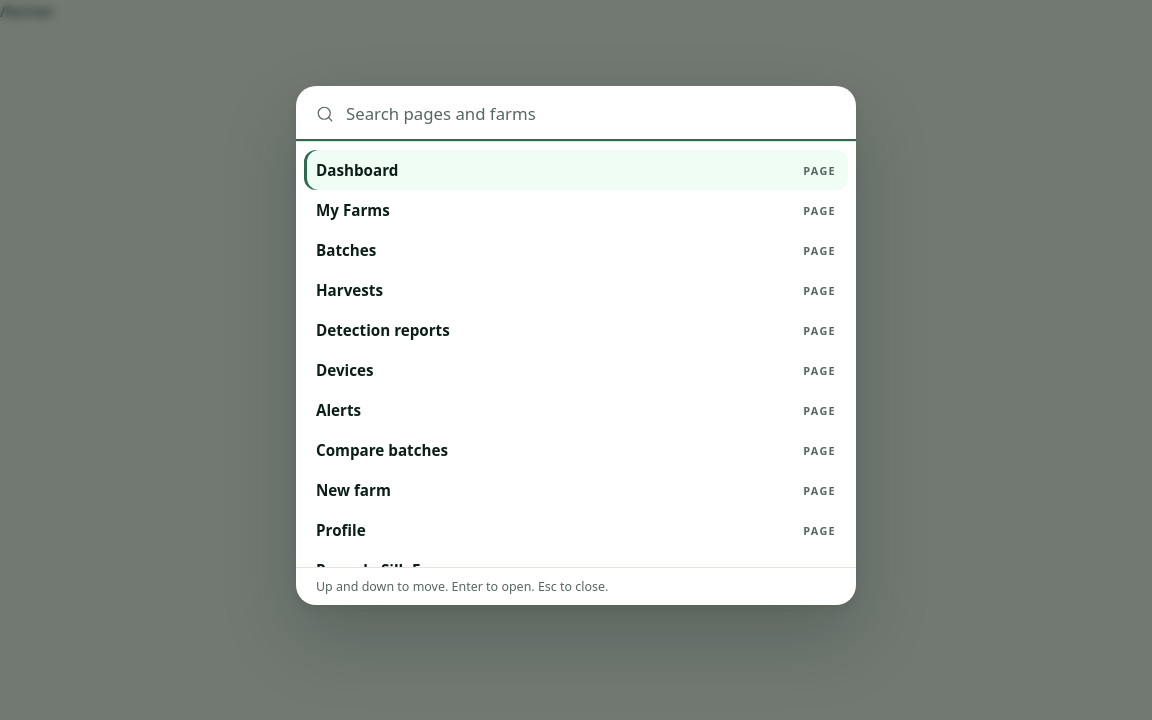
Test: searching › narrows the list as the person types
Type "hill" into the dropdown named "Quick search".
click(591, 114); type("hill")  # box x1=346 y1=102 x2=836 y2=125
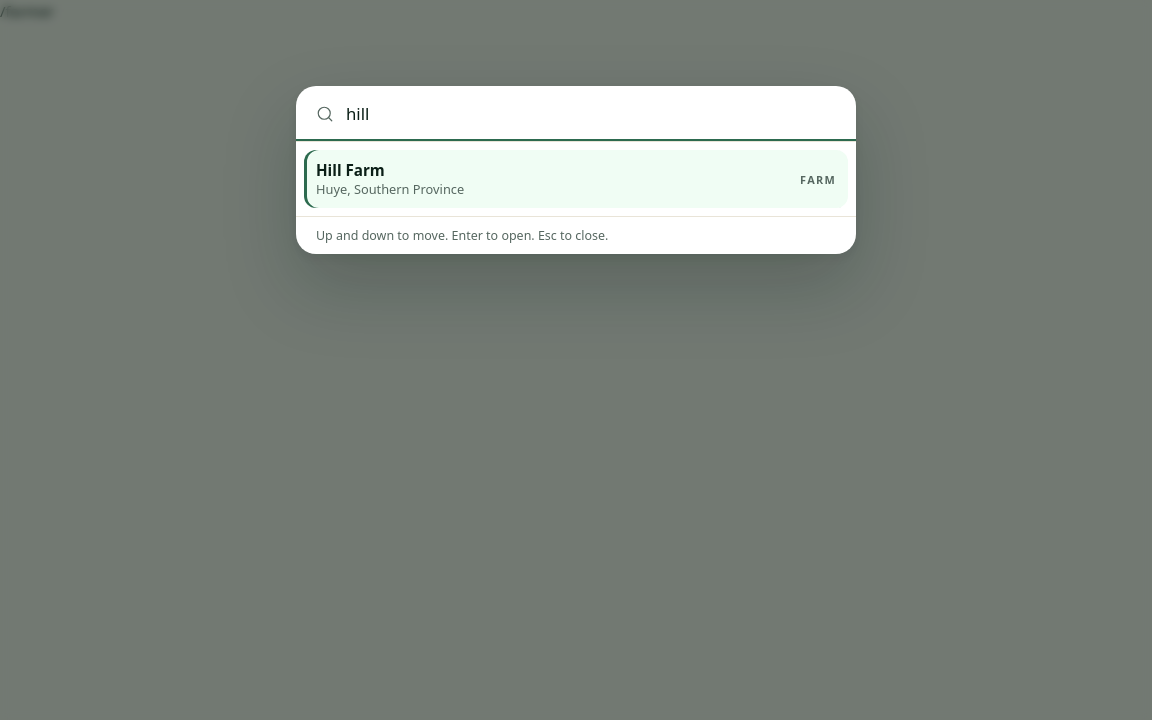
Result: the option shows "Hill Farm" at x1=304 y1=150 x2=848 y2=208
